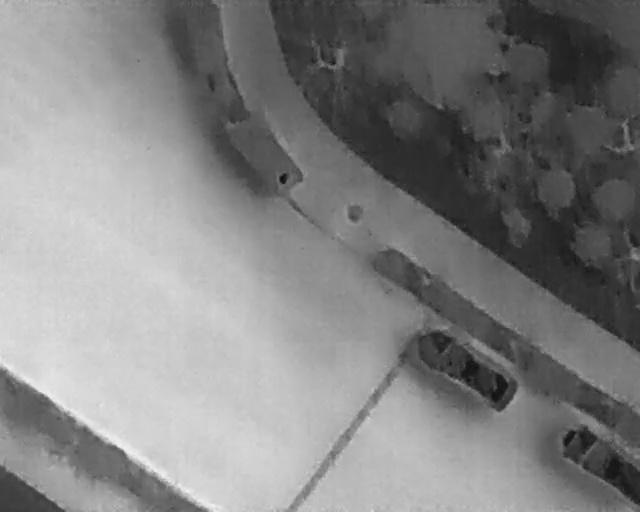Car: (403, 316, 528, 420), (562, 423, 639, 507)
